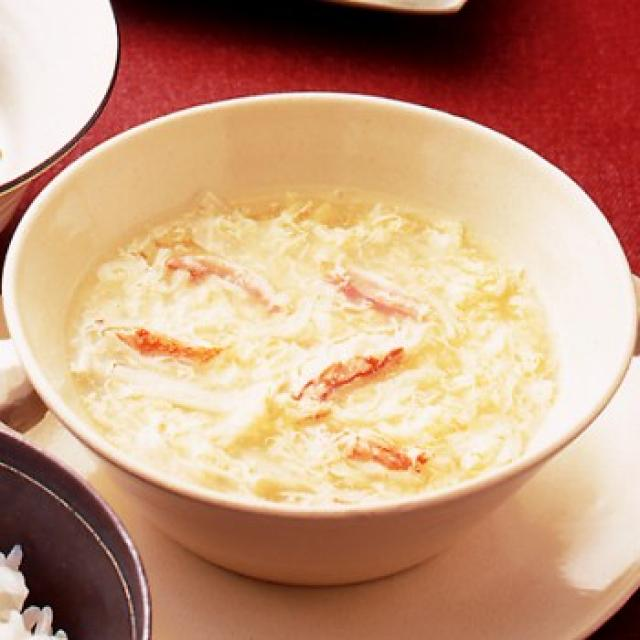汤锅炖物: (9, 91, 629, 576)
